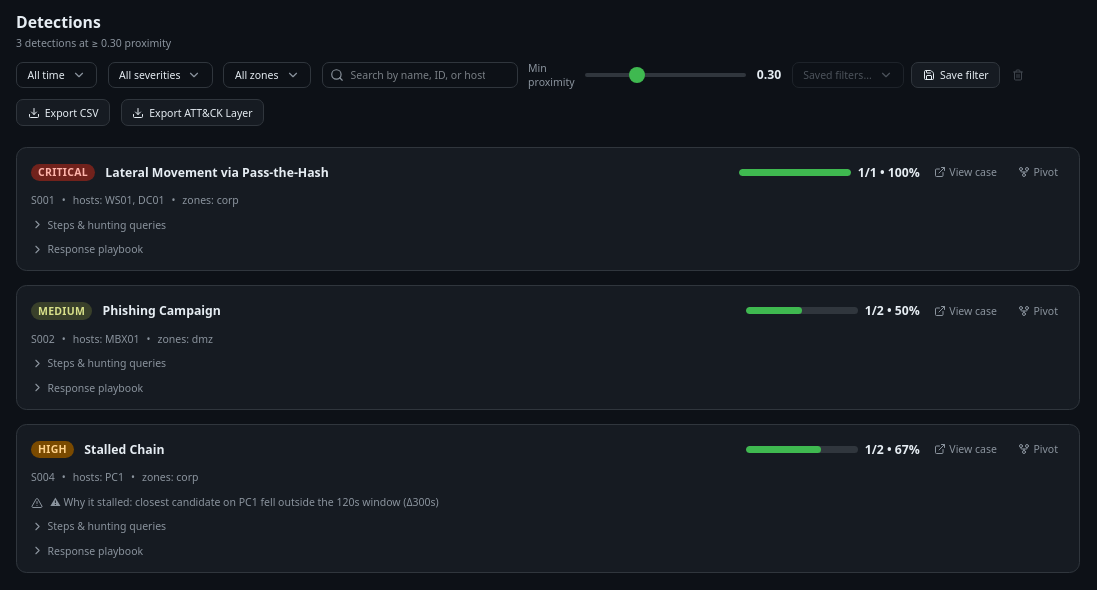
Test: Dashboard › severity select filters the rendered list client-side
expect the text "Lateral Movement via Pass-the-Hash" is shown: met, box [105, 164, 329, 180]
expect the text "Phishing Campaign" is shown: met, box [103, 302, 221, 319]
Click the dropdown named "severity".
click(160, 75)  # box [108, 62, 213, 88]
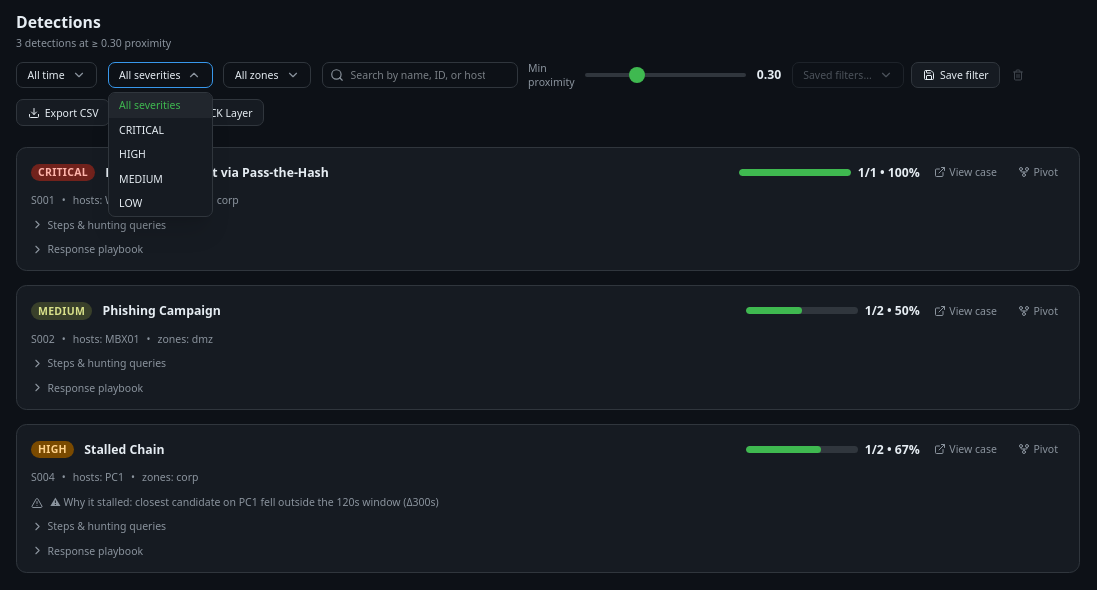
Click the option "CRITICAL".
click(142, 130)  # box [119, 123, 164, 137]
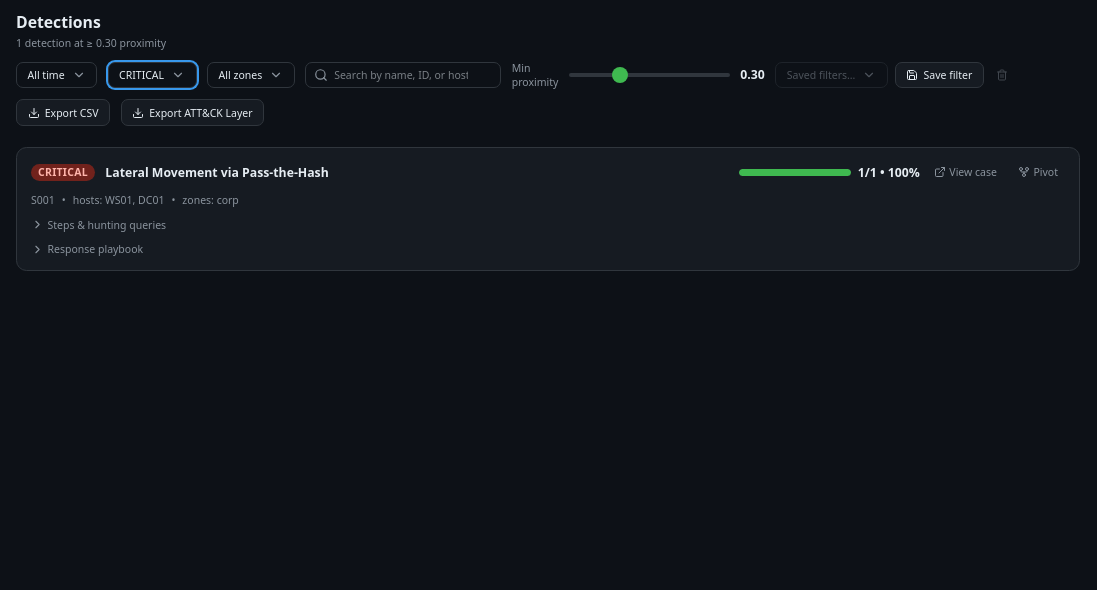
expect the text "Lateral Movement via Pass-the-Hash" is shown: met, box [105, 164, 329, 180]
expect the text "Phishing Campaign" is gone: met
